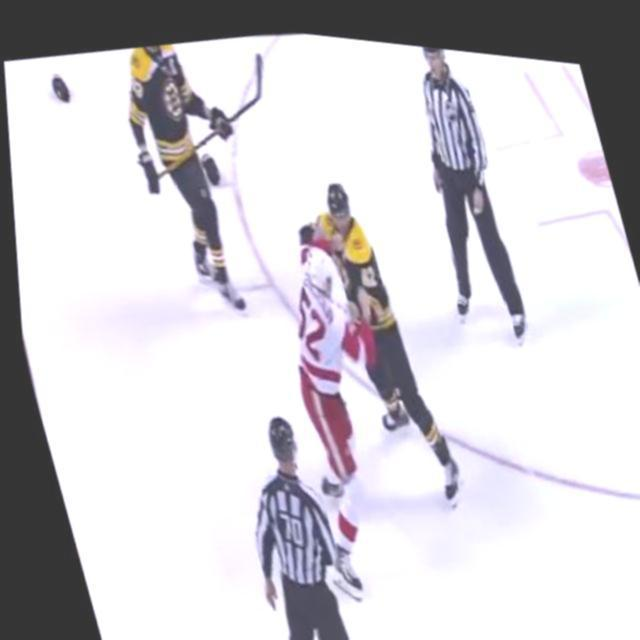fight: (229, 146, 479, 536)
